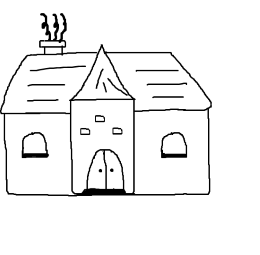door: (82, 146, 130, 203)
open_window: (160, 131, 188, 159), (22, 132, 48, 157), (80, 127, 90, 135), (95, 115, 105, 122), (112, 128, 122, 133)
roof: (0, 44, 212, 115)
smoking_chimney: (35, 8, 72, 64)
wall: (3, 108, 215, 199)
